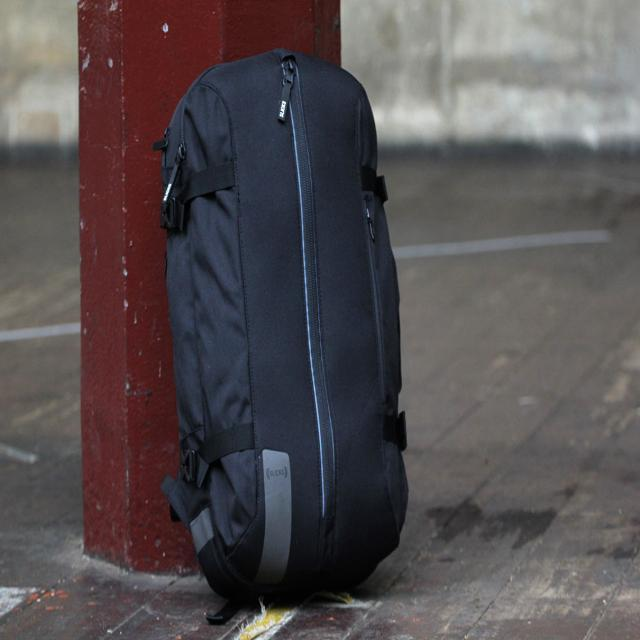Backpacks: (152, 64, 412, 602)
